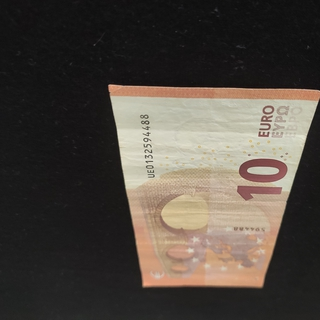10EUROBack: (107, 83, 320, 289)
